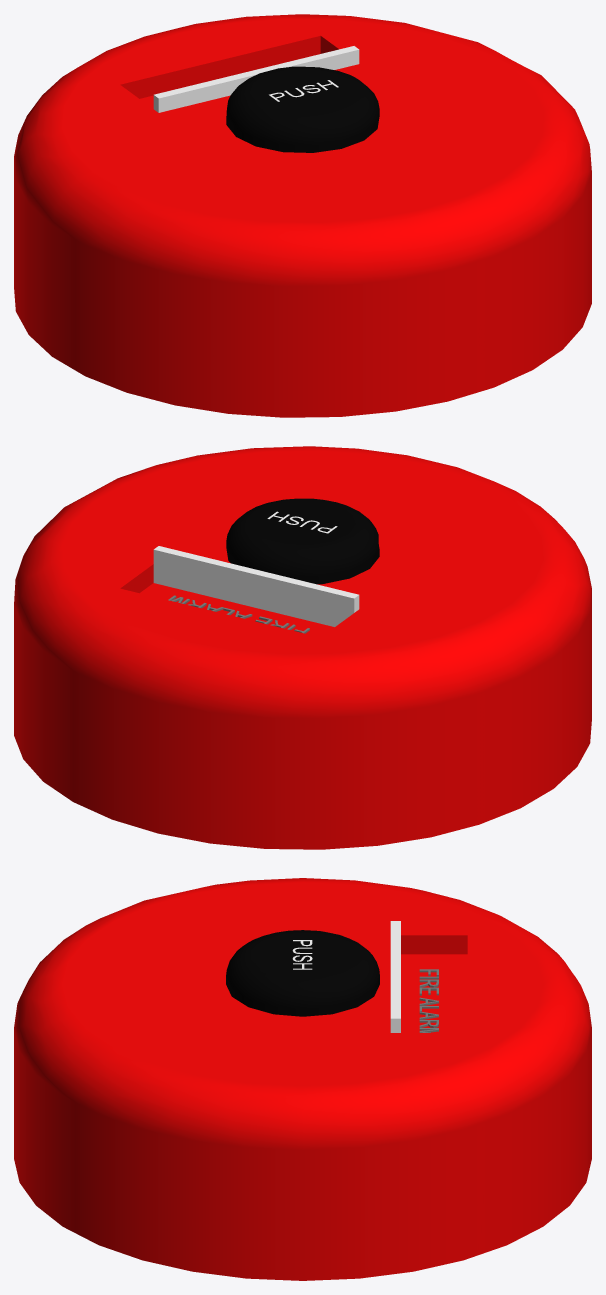
The model's file is NUT BAO CHAY.fbx.
The picture shows the model from 3 angles, top to bottom: view 1: azimuth 30°, elevation 25°; view 2: azimuth 150°, elevation 25°; view 3: azimuth 270°, elevation 25°; orthographic projection.
Visible parts, largest first — view 1: Joined Solid Geometry (1), Revolve (1), Extrusion (1); view 2: Joined Solid Geometry (1), Revolve (1), Extrusion (1), Model Text [3916]; view 3: Joined Solid Geometry (1), Revolve (1), Extrusion (1), Model Text [3916].
Boxes of the visible parts, box(x1,y1,x2,y2) form: Joined Solid Geometry (1): box(14, 14, 591, 417); Revolve (1): box(226, 66, 379, 152); Extrusion (1): box(153, 46, 359, 112); Joined Solid Geometry (1): box(14, 446, 591, 849); Revolve (1): box(226, 498, 379, 584); Extrusion (1): box(153, 546, 359, 626); Model Text [3916]: box(168, 595, 309, 633); Joined Solid Geometry (1): box(14, 878, 591, 1280); Revolve (1): box(226, 930, 379, 1016); Extrusion (1): box(390, 921, 400, 1032); Model Text [3916]: box(419, 969, 438, 1032).
Size of the model in its own units: 0.6 by 0.6 by 0.234.
